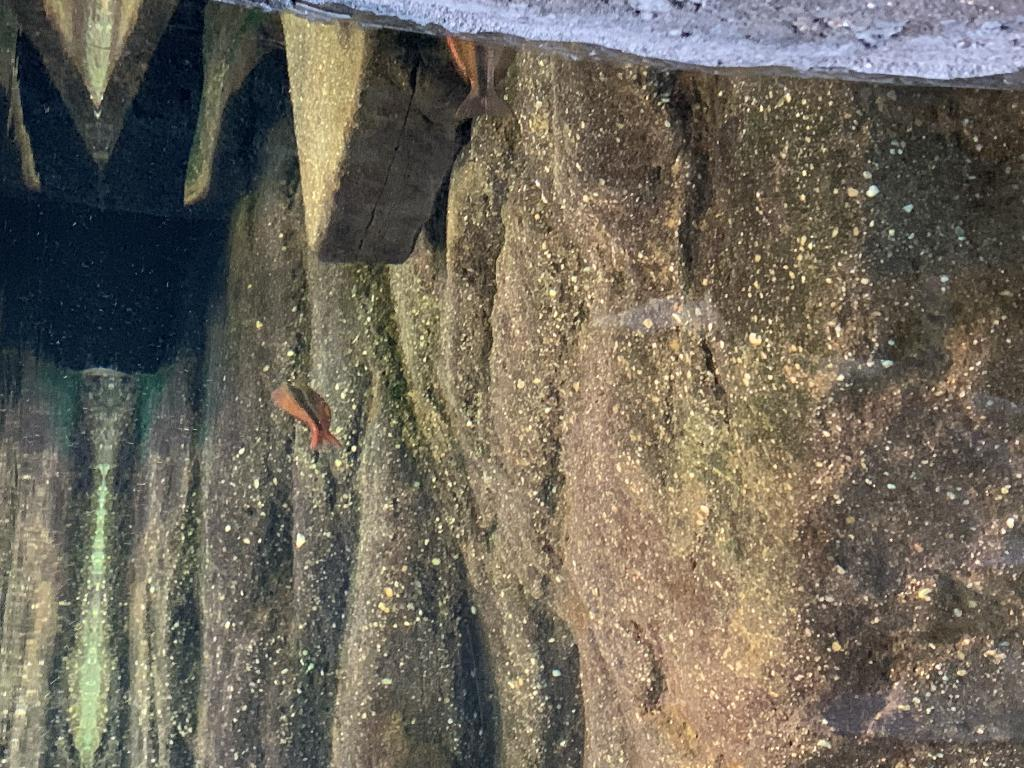fish: (446, 35, 516, 117), (270, 379, 344, 453)
